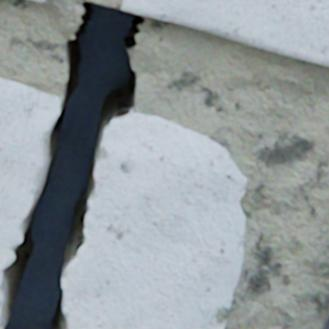brick: (122, 0, 328, 66), (322, 314, 328, 328), (30, 0, 45, 3)
broken_brick: (61, 113, 245, 328), (0, 77, 61, 282), (0, 287, 3, 328)
crack: (0, 0, 145, 328)
